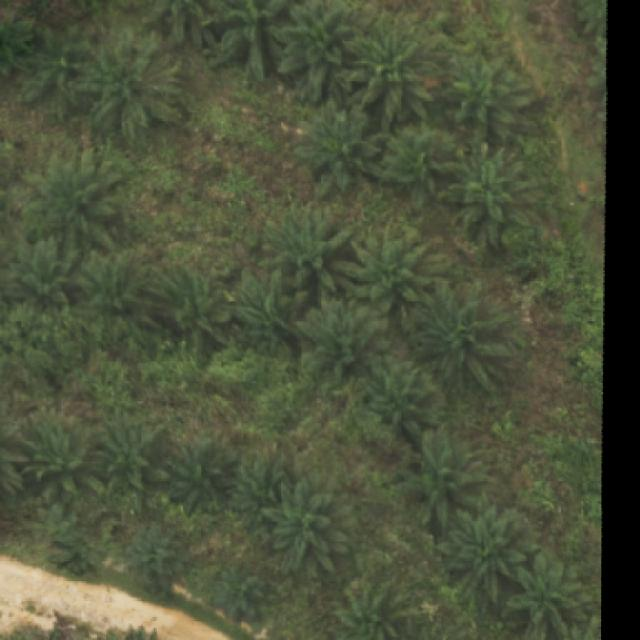Kelapa_Sawit: (72, 22, 186, 142), (20, 147, 134, 258), (412, 276, 513, 395), (339, 225, 446, 329), (432, 144, 531, 248), (438, 504, 540, 601), (260, 472, 352, 577), (403, 420, 489, 526), (343, 26, 432, 125), (440, 50, 535, 142), (278, 1, 354, 110), (296, 294, 386, 384), (15, 422, 106, 507), (263, 206, 352, 291), (152, 259, 232, 350), (87, 248, 161, 346), (297, 108, 381, 194), (16, 26, 90, 122), (362, 352, 440, 440), (94, 418, 166, 513), (378, 126, 457, 212), (162, 432, 240, 519), (225, 269, 307, 340), (11, 234, 86, 308), (226, 450, 288, 533), (126, 521, 182, 594), (208, 564, 268, 624), (46, 532, 114, 574)
